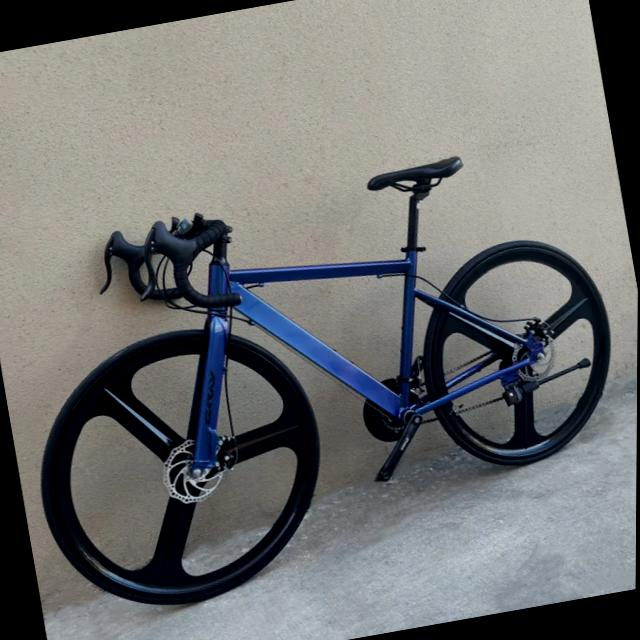road-bike: (0, 135, 639, 627)
